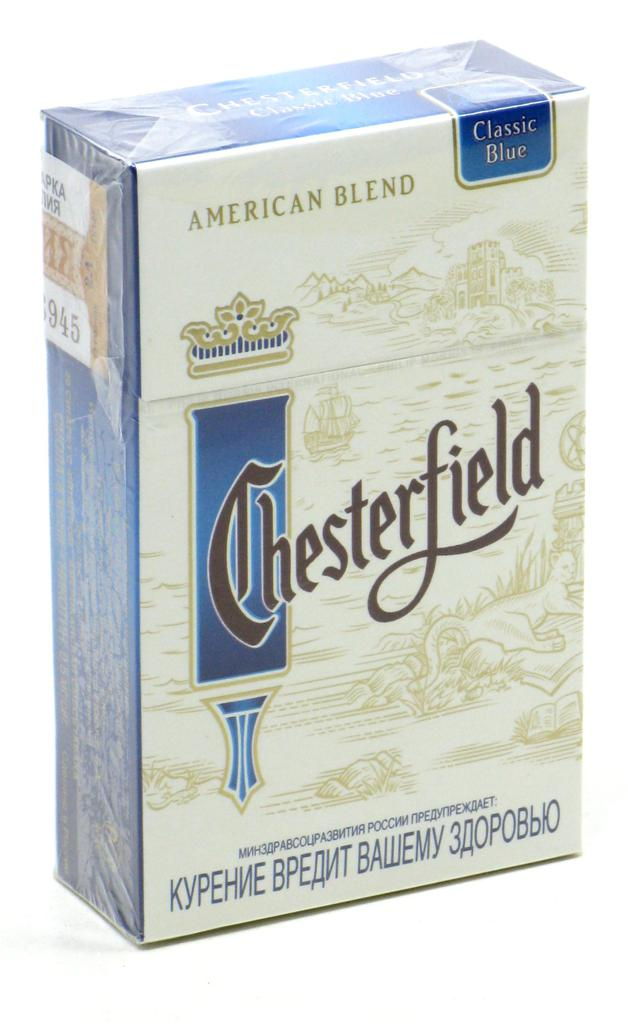chesterfield_blue: (135, 113, 587, 882)
